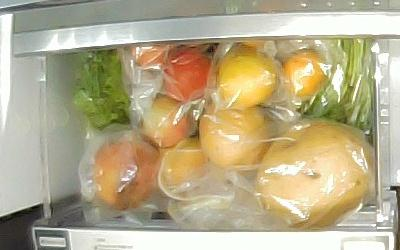peach_vinyl: (93, 138, 160, 209), (159, 138, 208, 187)
pear_vinyl: (258, 120, 370, 228), (198, 104, 271, 170)
tangerine_vinyl: (218, 48, 278, 109), (282, 49, 325, 98)
tomato_vinyl: (139, 95, 189, 148), (162, 48, 211, 102), (132, 45, 172, 68)
